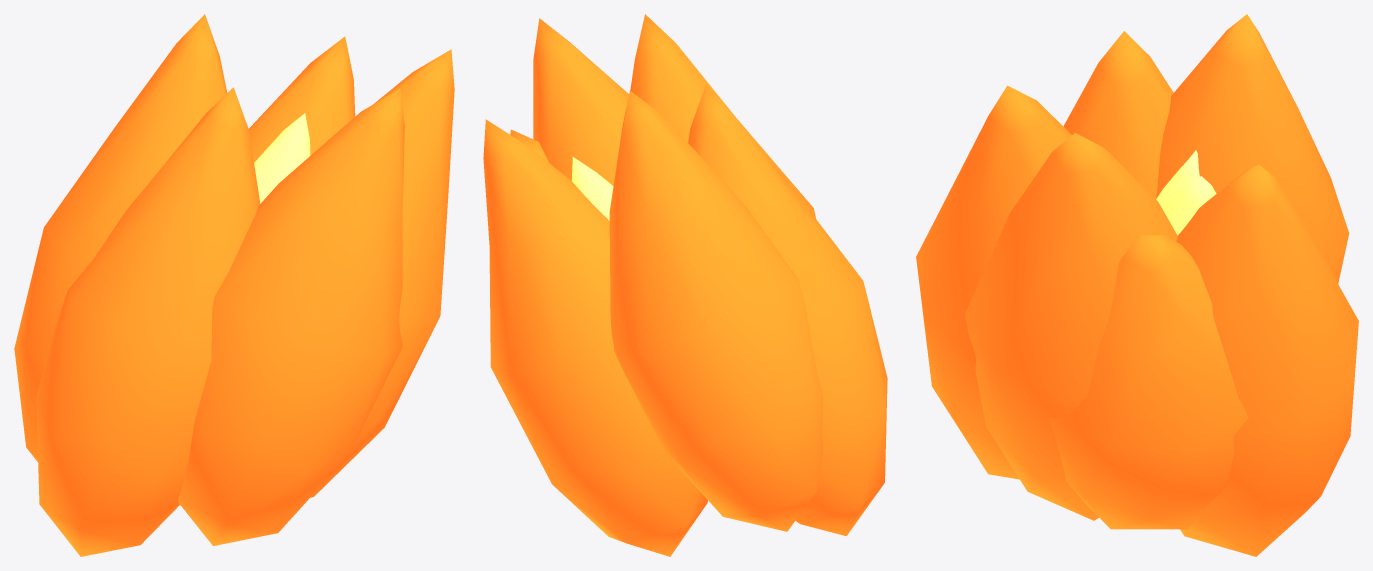
Rendered from edo_fire_burst.glb.
3 views of the same model, side by side, from view 1: azimuth 30°, elevation 25°; view 2: azimuth 150°, elevation 25°; view 3: azimuth 270°, elevation 25° (orthographic). The views are drawn at different scales.
Visible parts, largest first — view 1: FireBurst_Envelope, FireBurst_Core; view 2: FireBurst_Envelope, FireBurst_Core; view 3: FireBurst_Envelope, FireBurst_Core.
Part boxes in pixels (x1,y1,x2,y2): FireBurst_Envelope: (14, 14, 454, 556); FireBurst_Core: (254, 113, 310, 203); FireBurst_Envelope: (483, 14, 887, 556); FireBurst_Core: (571, 157, 613, 220); FireBurst_Envelope: (916, 14, 1358, 556); FireBurst_Core: (1156, 150, 1216, 235).
Size of the model in its own units: 1.51 by 1.84 by 1.35.
